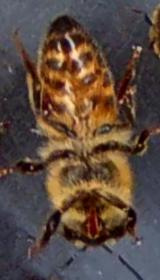varroa_mite: (34, 88, 57, 118)
